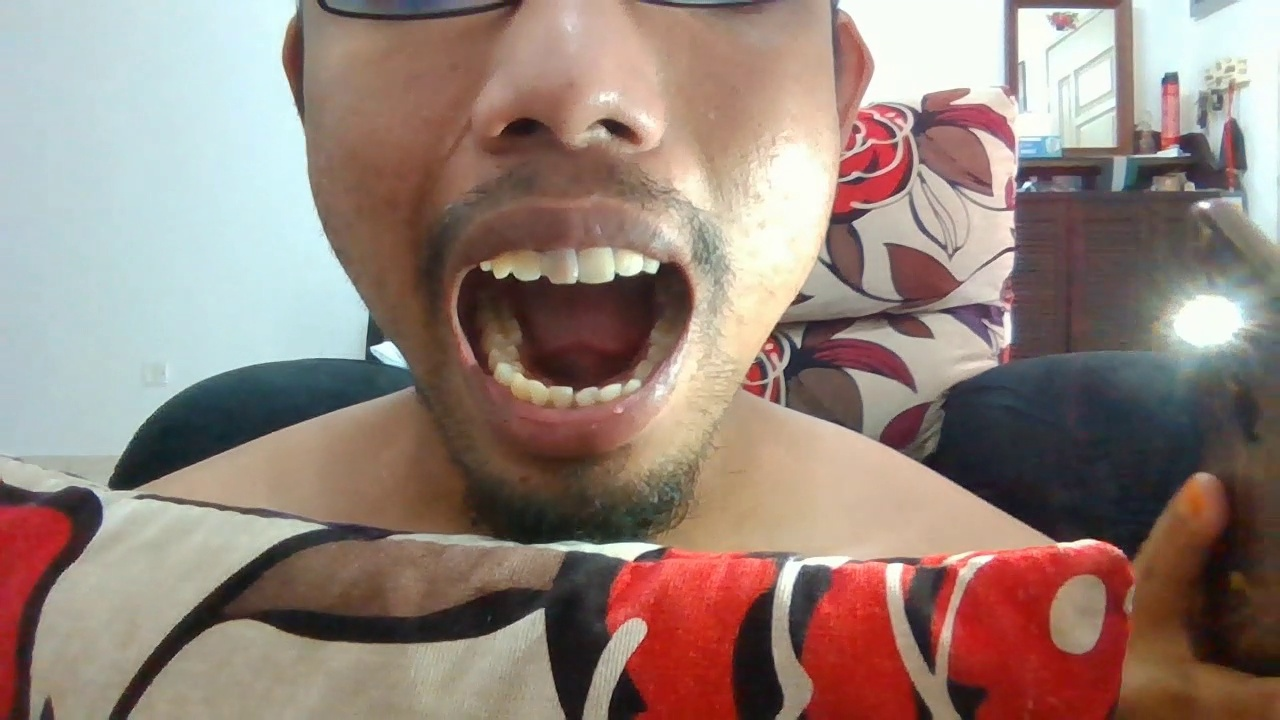1st Molar: (483, 318, 522, 345), (649, 317, 689, 341)
1st Premolar: (493, 360, 524, 383), (635, 359, 663, 382), (480, 257, 494, 272)
2nd Molar: (475, 298, 515, 321)
2nd Premolar: (646, 340, 676, 361), (487, 344, 520, 362)
Canine: (491, 250, 511, 278), (510, 374, 530, 401), (643, 251, 661, 275), (623, 377, 641, 397)
Central Incisor: (542, 246, 579, 285), (579, 245, 616, 283), (548, 383, 574, 408), (575, 384, 599, 408)
Lateral Incisor: (511, 249, 542, 282), (615, 246, 644, 275), (528, 381, 548, 406), (600, 381, 622, 402)
